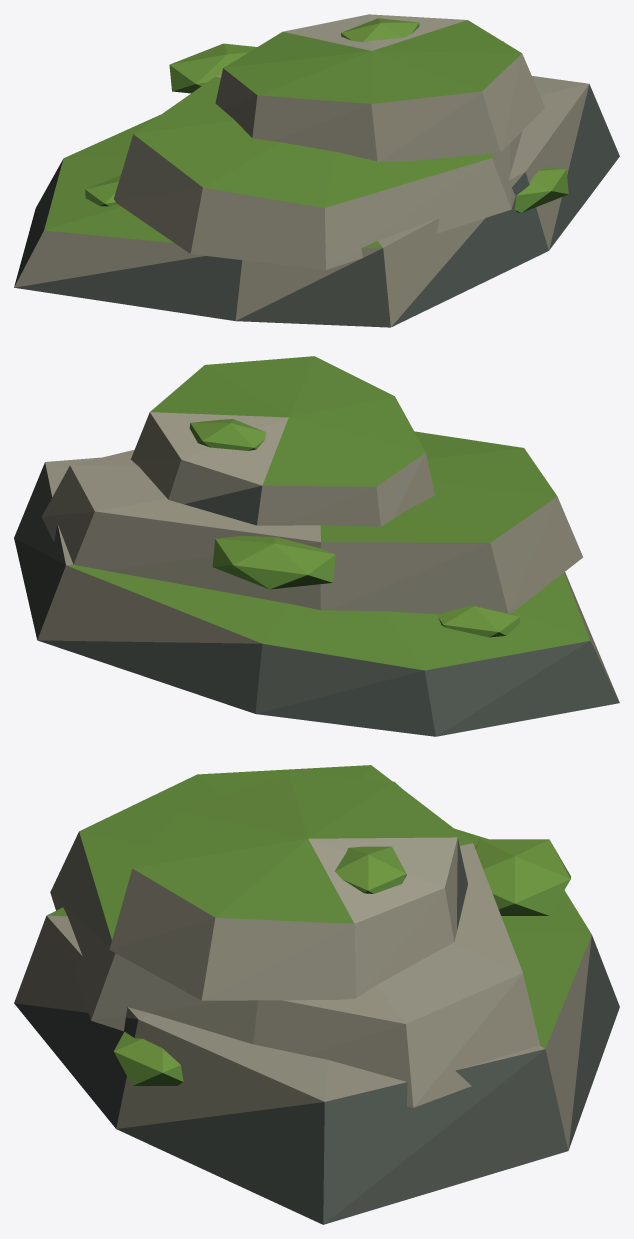
The model's file is rock_mossy_slab.glb.
3 renders of one model, top to bottom at view 1: azimuth 30°, elevation 25°; view 2: azimuth 150°, elevation 25°; view 3: azimuth 270°, elevation 25°, orthographic. The views are drawn at different scales.
Parts seen in each view (by area): view 1: rock_mossy_slab; view 2: rock_mossy_slab; view 3: rock_mossy_slab.
Boxes of the visible parts, box(x1,y1,x2,y2) form: rock_mossy_slab: box(14, 14, 619, 327); rock_mossy_slab: box(14, 356, 619, 736); rock_mossy_slab: box(14, 765, 619, 1224).
Size of the model in its own units: 1.52 by 0.43 by 1.03.
Materials: 1 (1 with a texture image).
